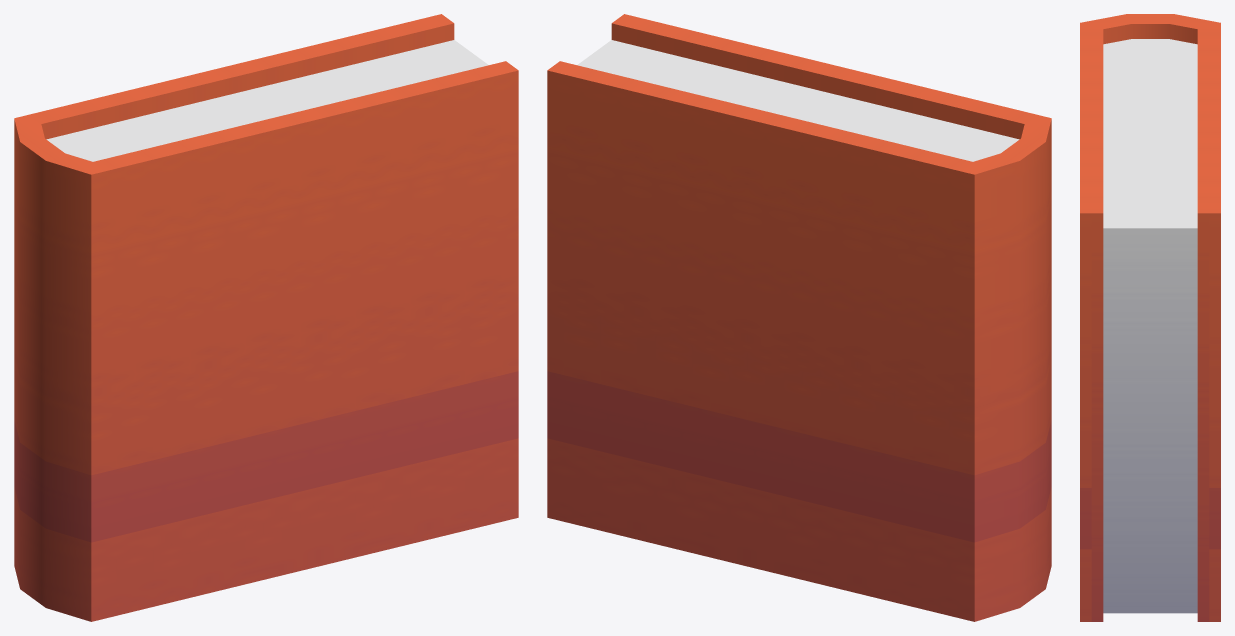
Rendered from book-1.fbx.
3 renders of one model, left to right at view 1: azimuth 30°, elevation 25°; view 2: azimuth 150°, elevation 25°; view 3: azimuth 270°, elevation 25°, orthographic. The views are drawn at different scales.
Parts seen in each view (by area): view 1: book-1; view 2: book-1; view 3: book-1.
Boxes of the visible parts, x1,y1,x2,y2 form: book-1: (14,14,518,621); book-1: (547,14,1051,621); book-1: (1080,14,1220,621).
Size of the model in its own units: 0.1293 by 0.0386 by 0.1236.
